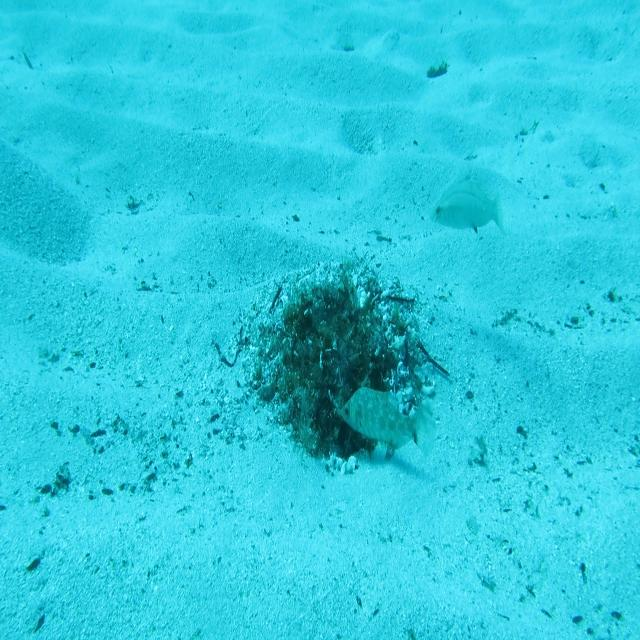AM: (339, 382, 437, 460)
core_nest: (309, 305, 356, 363)
nest: (227, 243, 445, 479)
vegetation: (426, 59, 451, 80)
